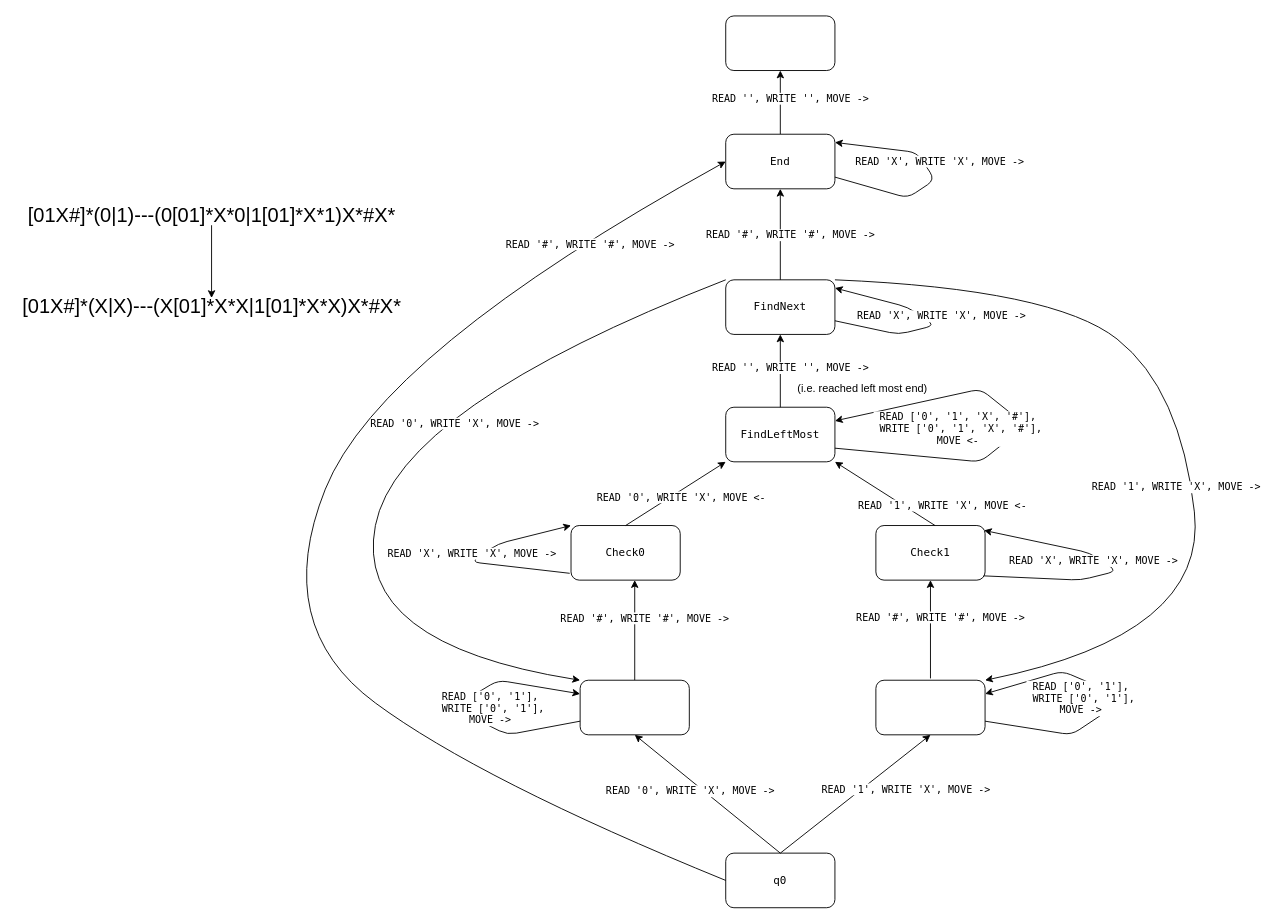
Some shapes in this 1276 by 924 pixel diagram are drawn without their labels. Here are the shapes that lost their labels. From the top down, the box of each, then its label:
(725, 15, 835, 71): qa
(579, 679, 689, 735): FindDelimeter0
(875, 679, 985, 735): FindDelimeter1
